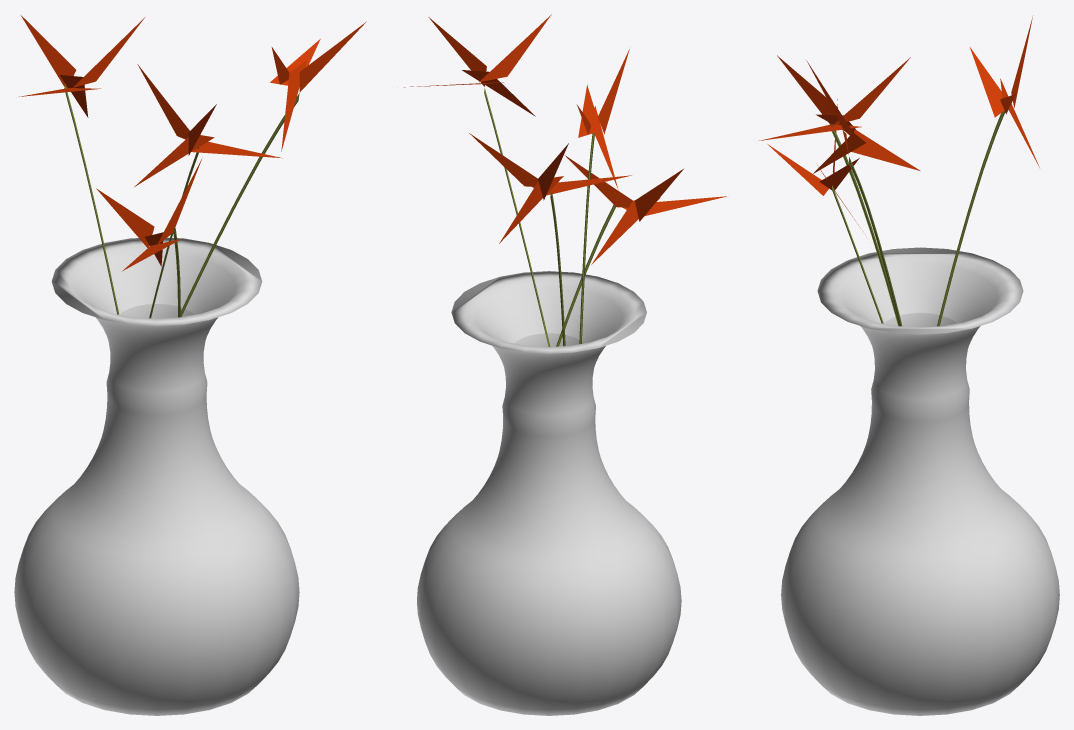
3 views of the same model, side by side, from view 1: azimuth 30°, elevation 25°; view 2: azimuth 150°, elevation 25°; view 3: azimuth 270°, elevation 25° (orthographic). The views are drawn at different scales.
Parts seen in each view (by area): view 1: SketchUp (×2), Flower_Wing (×8), Stem (×2); view 2: SketchUp (×2), Flower_Wing (×10), Stem (×2); view 3: SketchUp (×2), Flower_Wing (×6), Stem (×3).
Part boxes in pixels (box(x1,y1,x2,y2)): SketchUp (×2): box(14, 237, 299, 715); Flower_Wing (×8): box(21, 15, 366, 247); Stem (×2): box(64, 84, 299, 316); SketchUp (×2): box(417, 271, 681, 715); Flower_Wing (×10): box(428, 14, 726, 264); Stem (×2): box(484, 88, 594, 346); SketchUp (×2): box(781, 247, 1059, 715); Flower_Wing (×6): box(767, 47, 1004, 195); Stem (×3): box(831, 110, 1005, 326).
Bounding box in the file's own units: 258 × 235 × 549.
